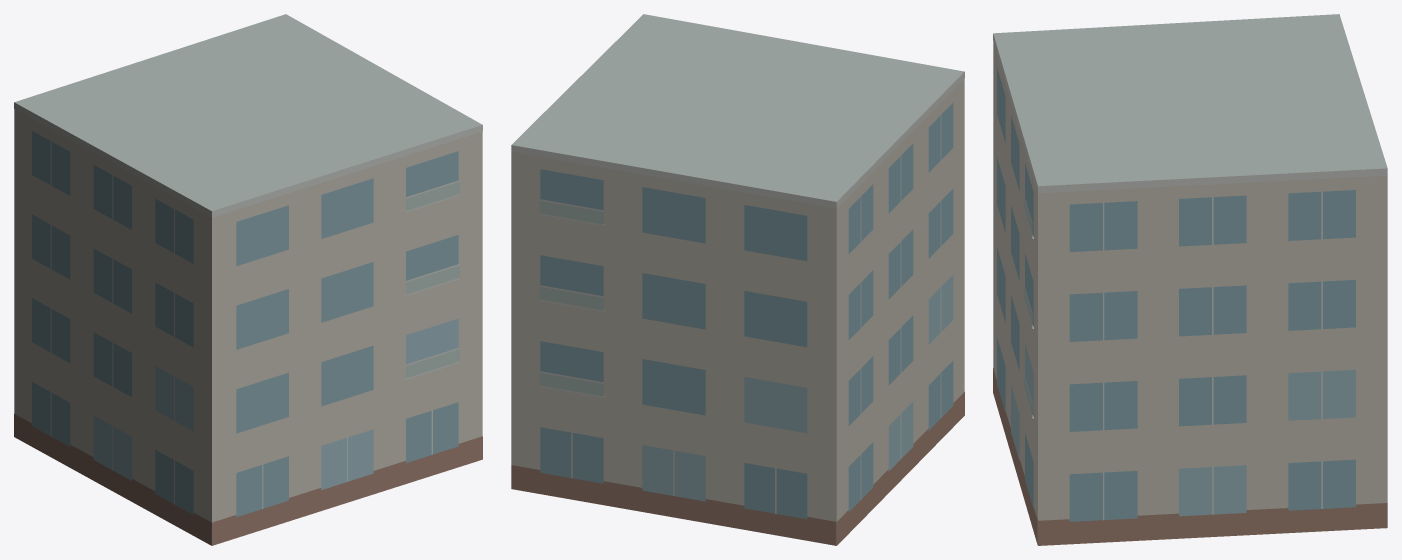
The model's file is survey-upis-33028346.glb.
The picture shows the model from 3 angles, left to right: view 1: azimuth 30°, elevation 25°; view 2: azimuth 150°, elevation 25°; view 3: azimuth 270°, elevation 25°; orthographic projection. The views are drawn at different scales.
Parts seen in each view (by area): view 1: survey-upis-33028346.tmp; view 2: survey-upis-33028346.tmp; view 3: survey-upis-33028346.tmp.
Part boxes in pixels (left/top/right/bottom): survey-upis-33028346.tmp: left=14, top=14, right=482, bottom=545; survey-upis-33028346.tmp: left=511, top=14, right=964, bottom=545; survey-upis-33028346.tmp: left=993, top=14, right=1387, bottom=545.
Size of the model in its own units: 12.79 by 12.45 by 12.39.
